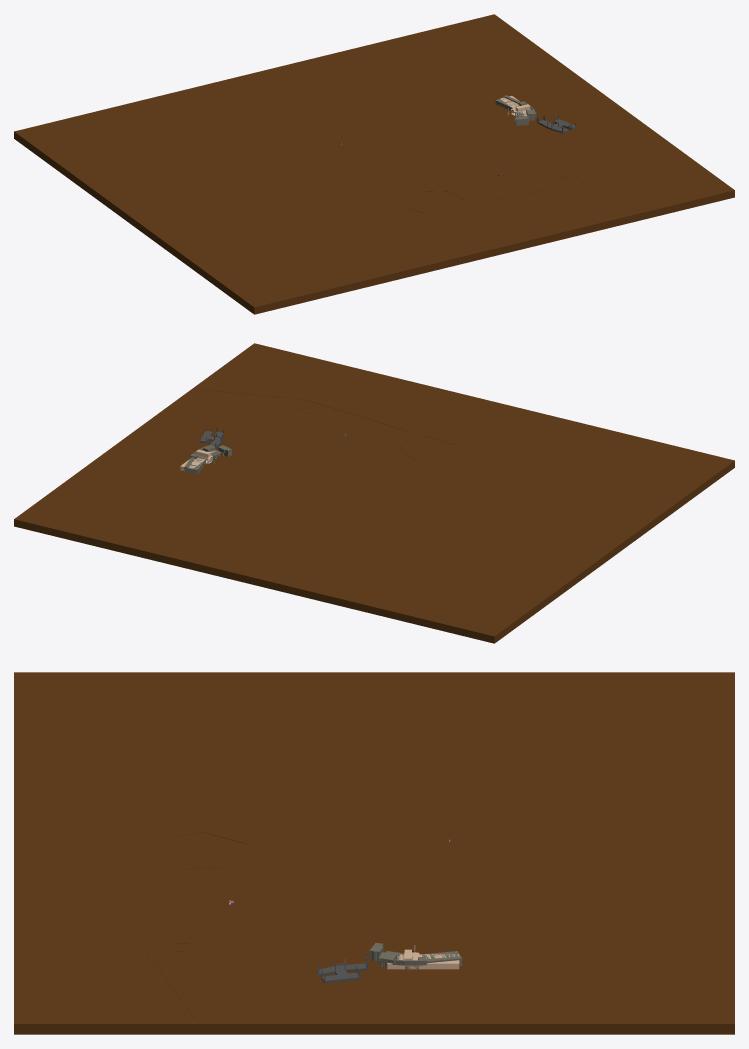
The model's file is depinfo.glb.
3 views of the same model, one above another, from view 1: azimuth 30°, elevation 25°; view 2: azimuth 150°, elevation 25°; view 3: azimuth 270°, elevation 25° (orthographic). The views are drawn at different scales.
Parts seen in each view (by area): view 1: roads, dep info; view 2: roads, dep info; view 3: roads, dep info, cyber.001, cyber.002.
Boxes of the visible parts, left/top/right/bottom form: roads: left=14, top=14, right=734, bottom=314; dep info: left=495, top=95, right=536, bottom=125; roads: left=14, top=343, right=734, bottom=643; dep info: left=184, top=445, right=231, bottom=473; roads: left=14, top=672, right=734, bottom=1034; dep info: left=369, top=943, right=462, bottom=969; cyber.001: left=387, top=949, right=459, bottom=969; cyber.002: left=317, top=957, right=367, bottom=983.
Bounding box in the file's own units: 1267 × 36.22 × 1098.
Materials: 1 (1 with a texture image).
